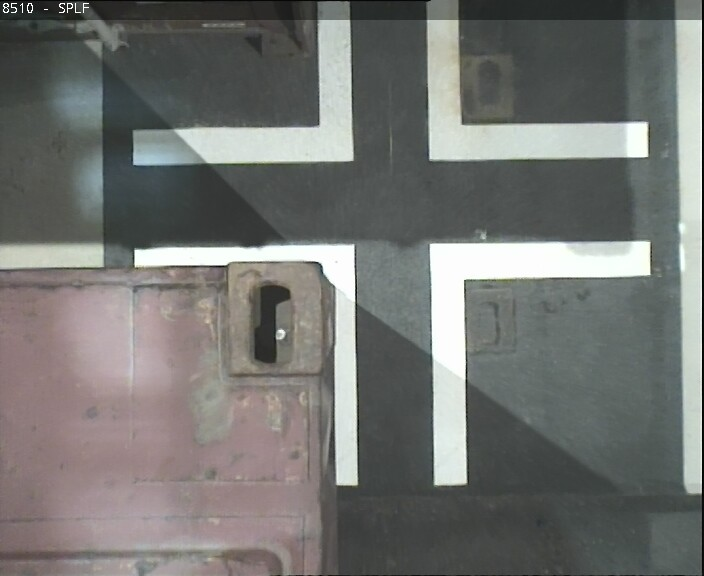groundmarker_1: (132, 245, 650, 486), (128, 1, 645, 161)
